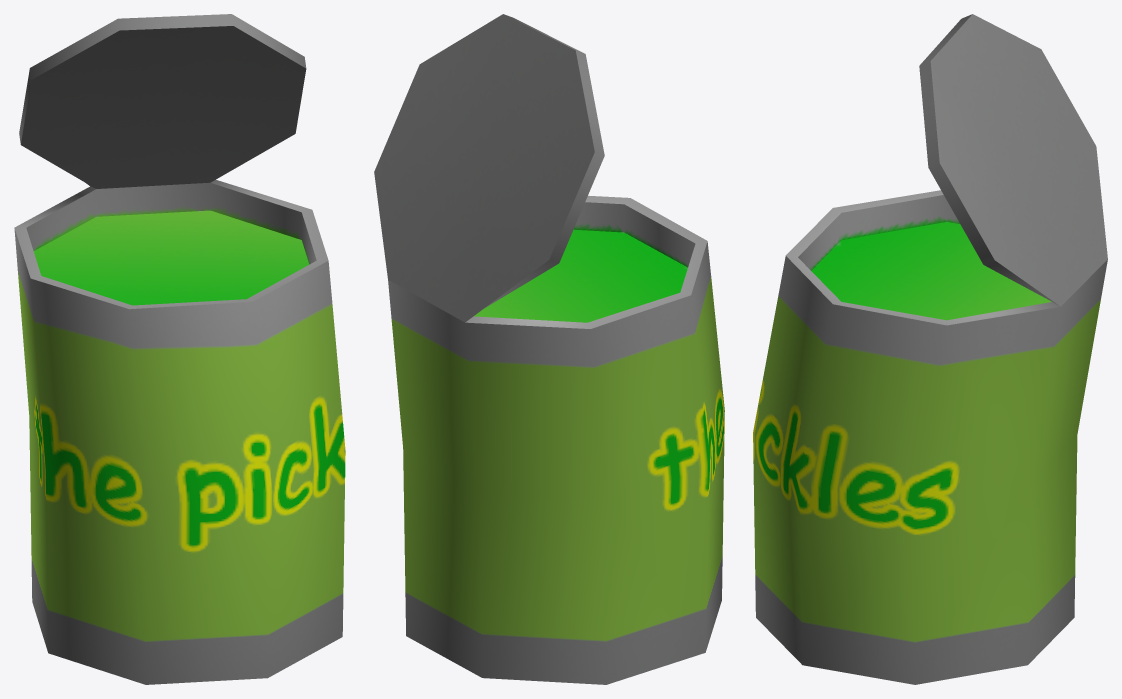
File: TinCan.fbx
The picture shows the model from 3 angles, left to right: view 1: azimuth 30°, elevation 25°; view 2: azimuth 150°, elevation 25°; view 3: azimuth 270°, elevation 25°; orthographic projection. The views are drawn at different scales.
Visible parts, largest first — view 1: polySurface1; view 2: polySurface1; view 3: polySurface1.
Boxes of the visible parts, left/top/right/bottom form: polySurface1: left=14, top=14, right=345, bottom=684; polySurface1: left=374, top=14, right=724, bottom=684; polySurface1: left=753, top=14, right=1107, bottom=684.
Size of the model in its own units: 1.63 by 3.19 by 1.76.
